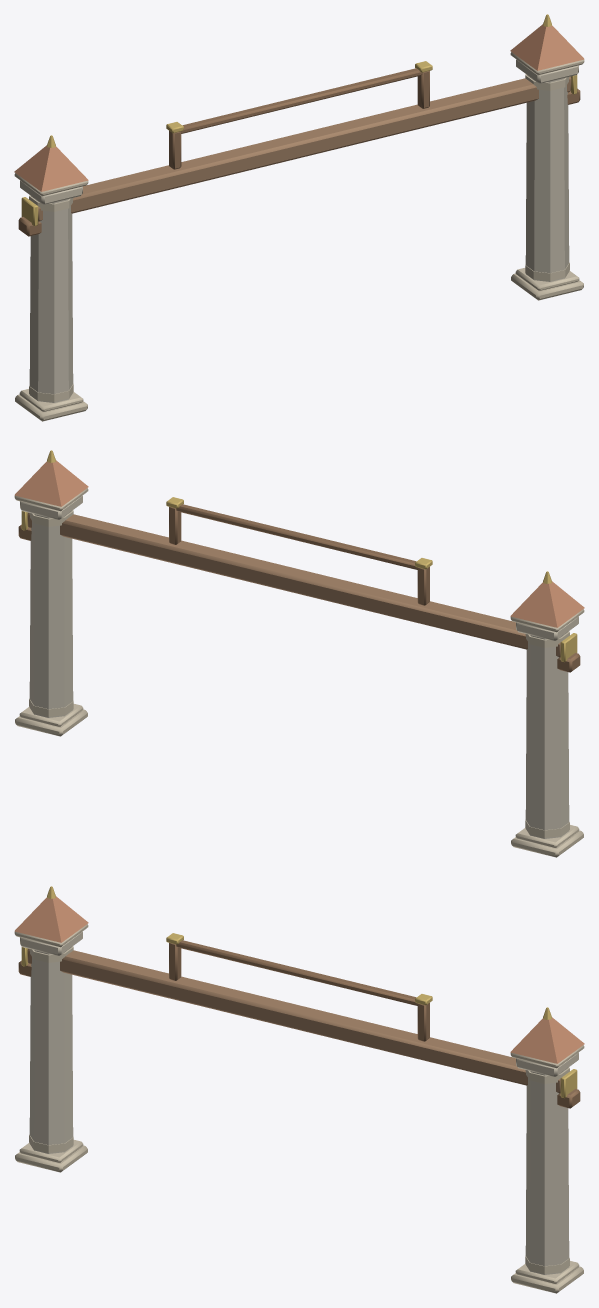
The model's file is hub_start_gantry.glb.
3 views of the same model, one above another, from view 1: azimuth 30°, elevation 25°; view 2: azimuth 150°, elevation 25°; view 3: azimuth 330°, elevation 25° (orthographic).
Parts seen in each view (by area): view 1: hub_start_gantry; view 2: hub_start_gantry; view 3: hub_start_gantry.
Part boxes in pixels (box(x1,y1,x2,y2)): hub_start_gantry: box(14, 14, 584, 421); hub_start_gantry: box(14, 450, 584, 857); hub_start_gantry: box(14, 886, 584, 1293).
Size of the model in its own units: 69.2 by 32.4 by 6.
